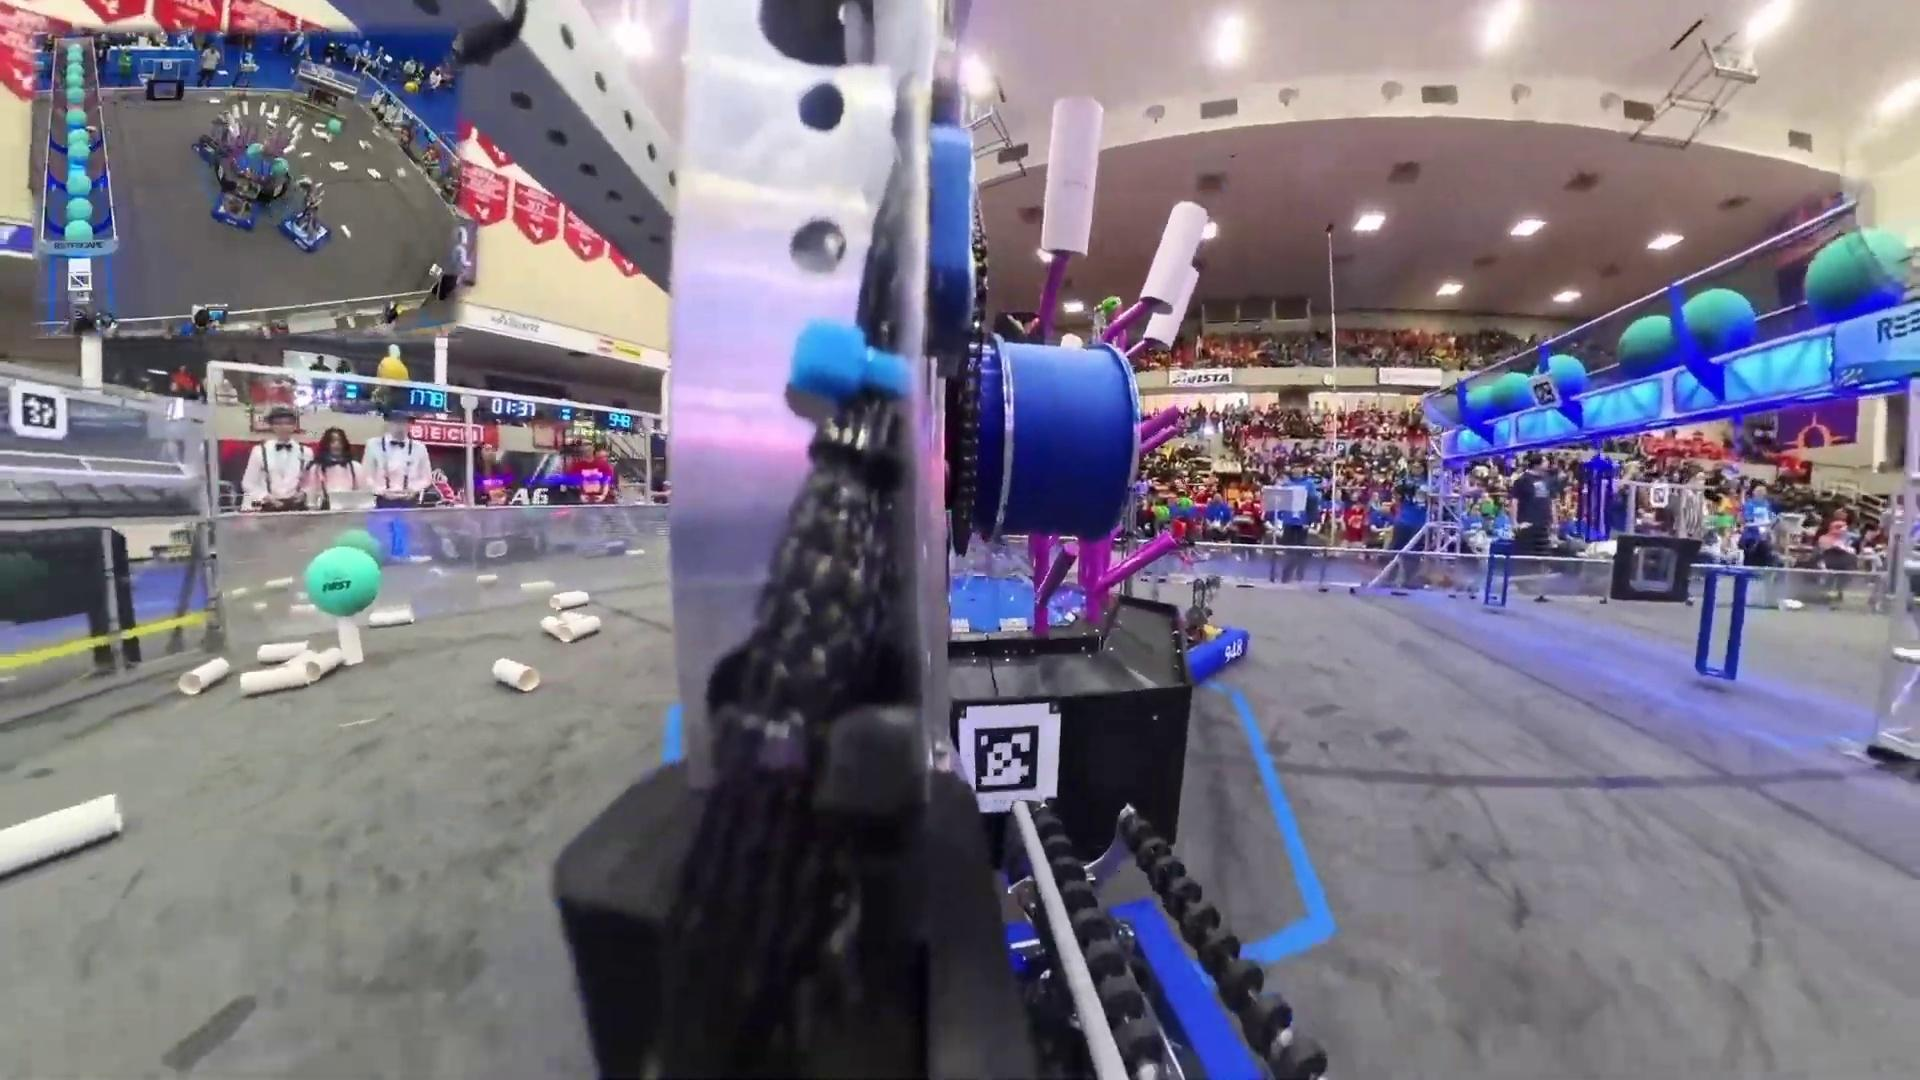robot: (1182, 575, 1250, 683), (276, 174, 332, 257), (212, 174, 260, 232), (191, 115, 223, 171)
